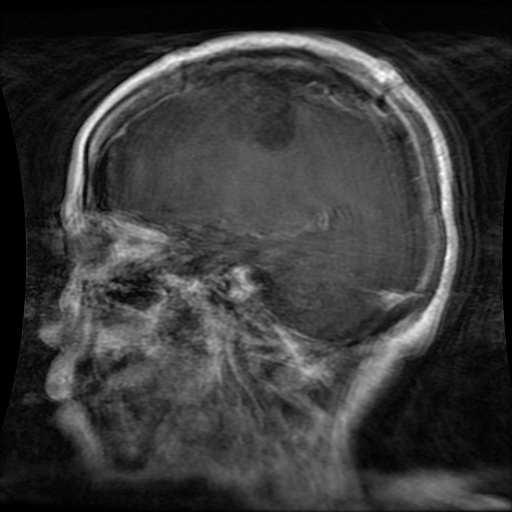glioma: (251, 81, 296, 150)
